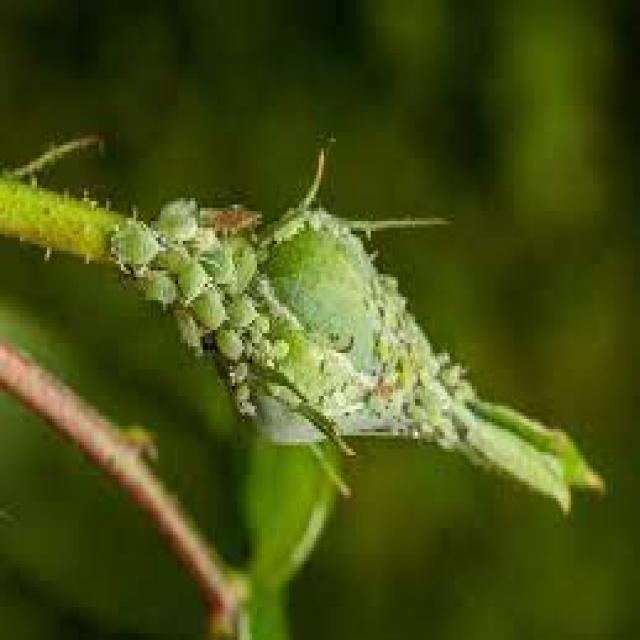aphid: (99, 208, 163, 274), (131, 260, 185, 316), (148, 195, 200, 248), (183, 280, 232, 336), (170, 251, 212, 310), (210, 320, 247, 366), (168, 303, 200, 353), (220, 290, 259, 327), (264, 330, 294, 366), (361, 382, 388, 416), (227, 376, 252, 412), (316, 350, 338, 379), (393, 346, 413, 373), (373, 336, 391, 363)
